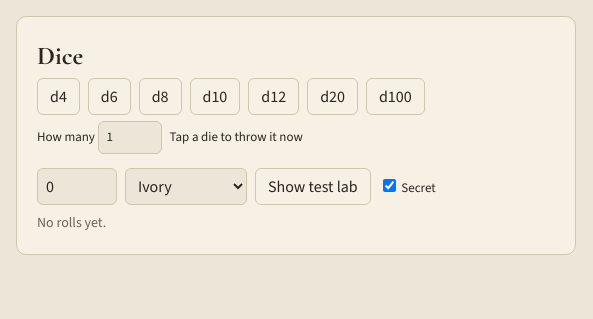
Test: the GM's test lab › shown and hidden with its button; players never see it
The image size is (593, 319).
Expected: the text "The lab" is not shown
What coordinates should you click on to do the following:
click the button "Show test lab"
I would click on:
 (313, 187)
Its box is top-left (255, 168), bottom-right (371, 205).
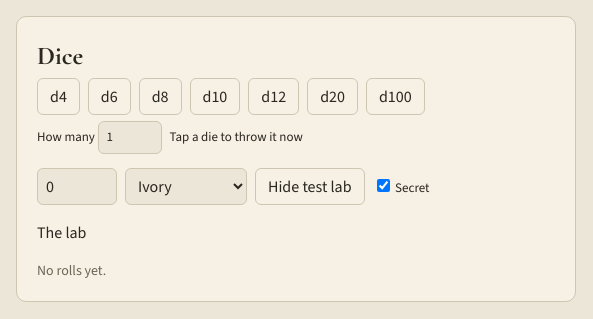
Result: the text "The lab" is shown at top-left (37, 222), bottom-right (86, 243)
What coordinates should you click on to do the following:
click the button "Hide test lab"
I would click on:
 (310, 187)
Its box is top-left (255, 168), bottom-right (364, 205).
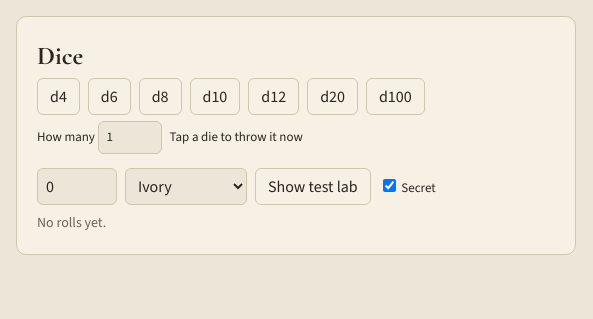
Result: the text "The lab" is gone
